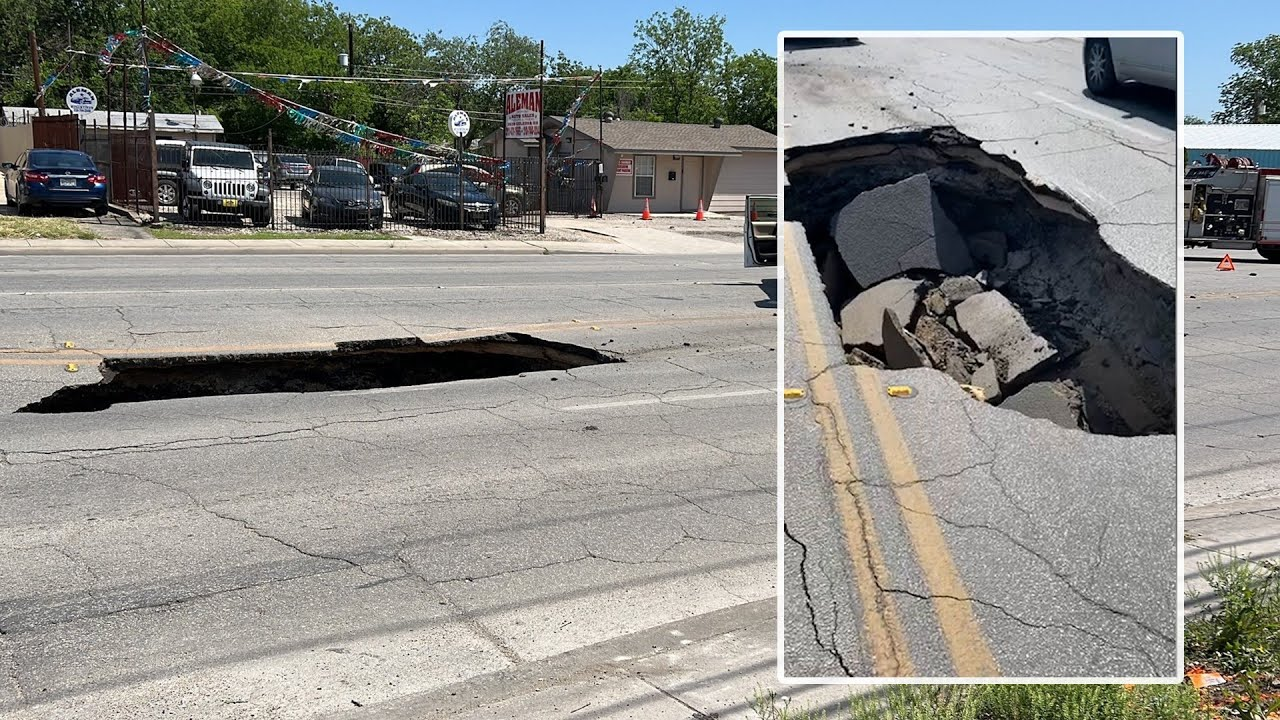Car: (170, 138, 273, 231), (393, 159, 500, 233), (292, 159, 385, 242), (12, 144, 108, 217)
Hole_in_the_road: (787, 138, 1180, 477), (6, 310, 655, 460)
